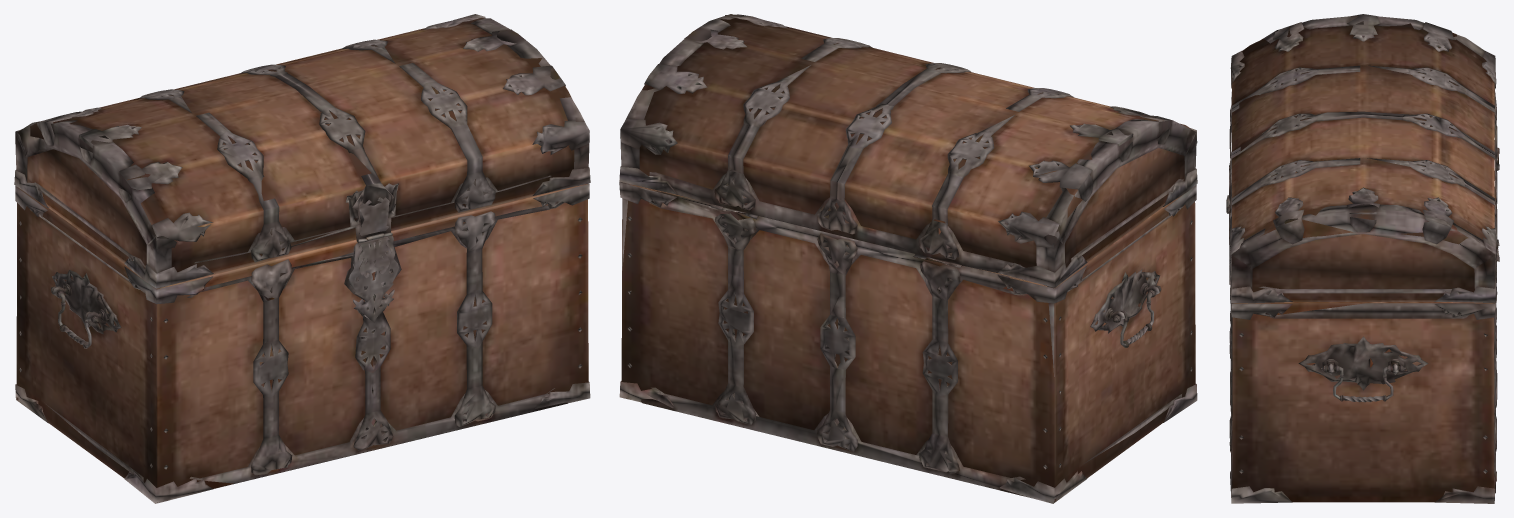
File: treasure_chest.795bf521.glb
3 renders of one model, left to right at view 1: azimuth 30°, elevation 25°; view 2: azimuth 150°, elevation 25°; view 3: azimuth 270°, elevation 25°, orthographic. The views are drawn at different scales.
Parts seen in each view (by area): view 1: treasure_chest_bottom, treasure_chest_lid, treasure_chest_lock; view 2: treasure_chest_bottom, treasure_chest_lid; view 3: treasure_chest_lid, treasure_chest_bottom, treasure_chest_handle_right.
Part boxes in pixels (<box>): treasure_chest_bottom: <box>15,183,590,503</box>; treasure_chest_lid: <box>14,14,590,288</box>; treasure_chest_lock: <box>348,233,398,322</box>; treasure_chest_bottom: <box>619,182,1197,503</box>; treasure_chest_lid: <box>619,14,1197,287</box>; treasure_chest_lid: <box>1226,14,1499,303</box>; treasure_chest_bottom: <box>1229,123,1499,503</box>; treasure_chest_handle_right: <box>1320,365,1405,402</box>.
Size of the model in its own units: 0.95 by 0.6104 by 0.5174.
1 material, 1 textured.
